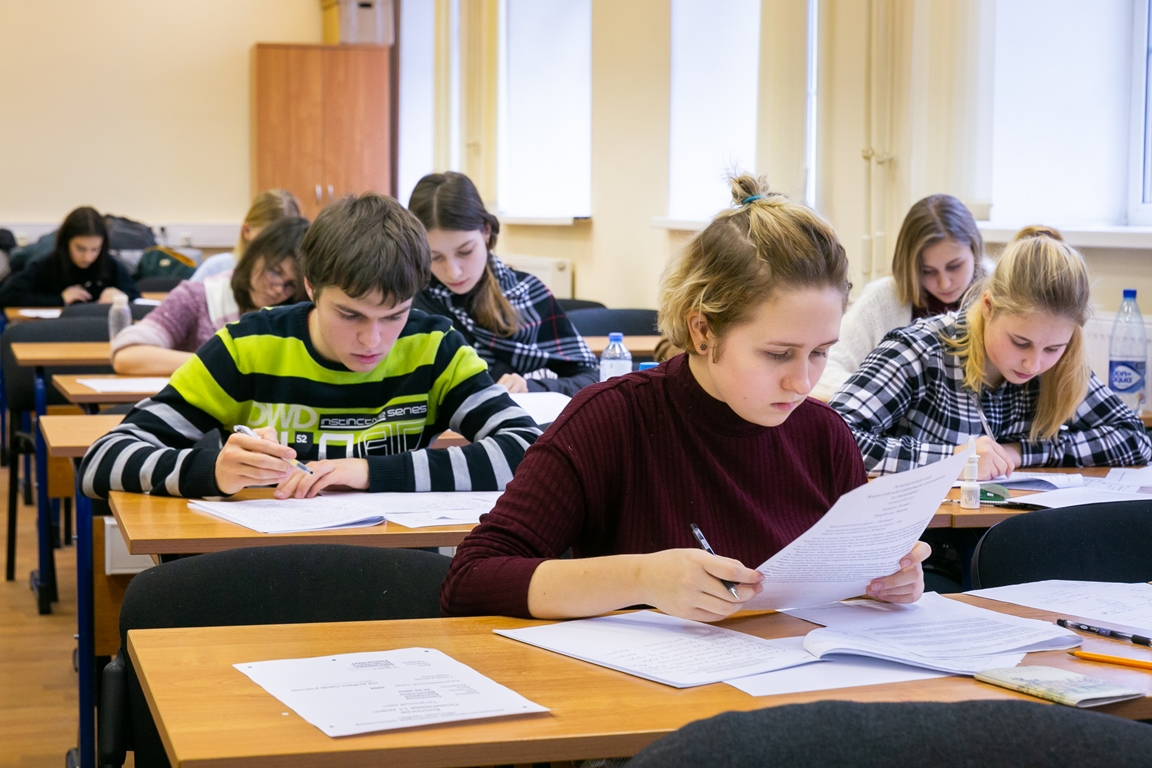students: (444, 197, 933, 623), (80, 192, 546, 504), (829, 228, 1150, 477), (409, 169, 600, 393), (810, 195, 983, 396), (111, 216, 314, 374), (1, 204, 143, 307), (189, 189, 302, 280)
